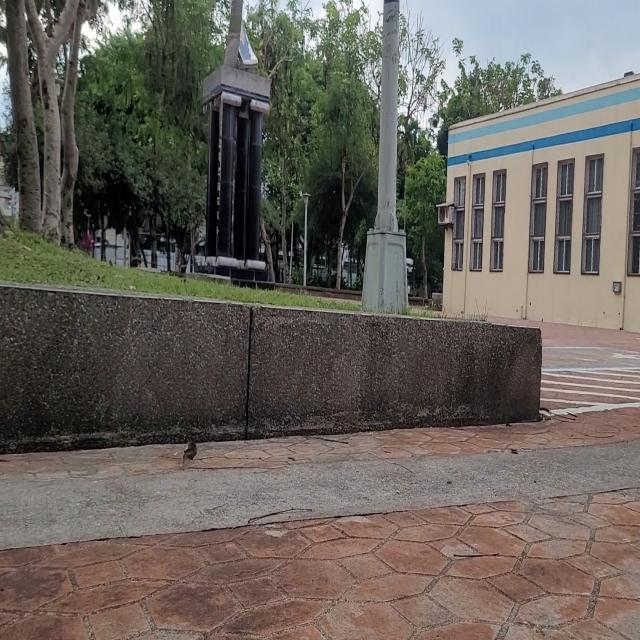tree: (4, 0, 40, 236), (39, 8, 62, 244), (62, 0, 78, 250)
